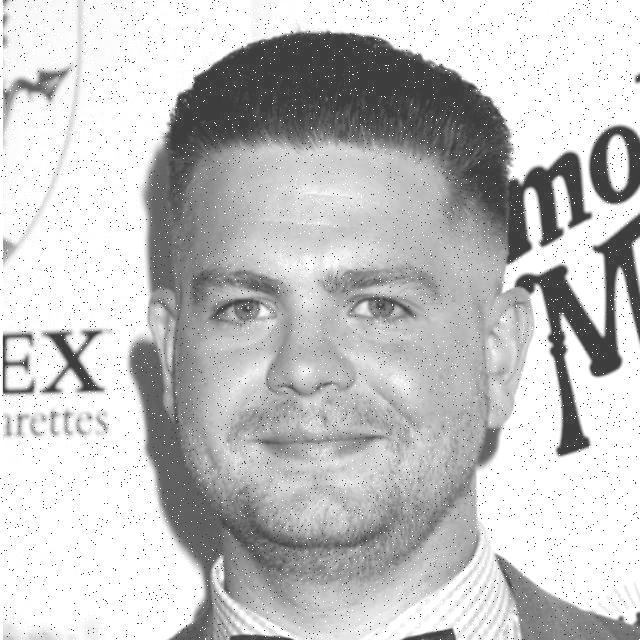real: (170, 158, 495, 562)
